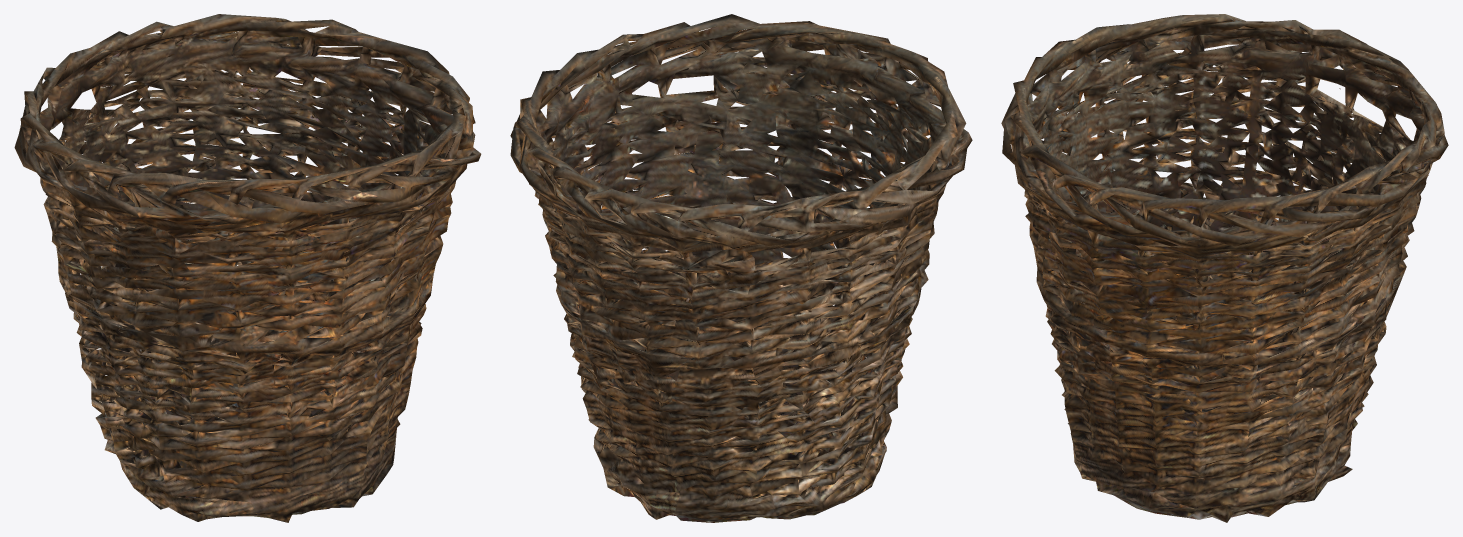
Rendered from MOD_BasketA.fbx.
3 views of the same model, side by side, from view 1: azimuth 30°, elevation 25°; view 2: azimuth 150°, elevation 25°; view 3: azimuth 270°, elevation 25° (orthographic). The views are drawn at different scales.
Parts seen in each view (by area): view 1: MOD_BasketA; view 2: MOD_BasketA; view 3: MOD_BasketA.
Part boxes in pixels (bbox=[...]): MOD_BasketA: bbox=[14, 14, 481, 522]; MOD_BasketA: bbox=[510, 14, 972, 522]; MOD_BasketA: bbox=[1001, 14, 1448, 522].
Size of the model in its own units: 51.76 by 46.26 by 50.61.
